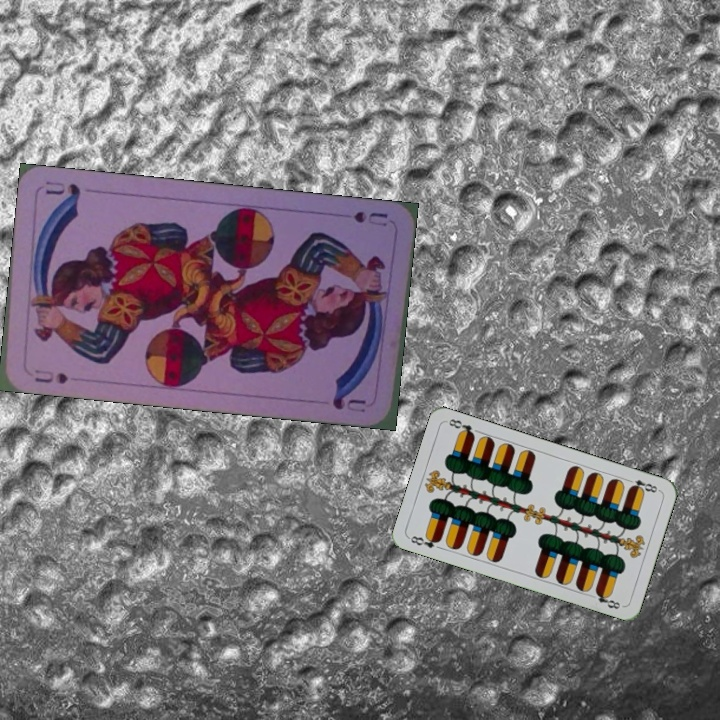E8: (623, 475, 662, 495), (407, 531, 444, 551)
SU: (349, 207, 391, 229), (30, 368, 71, 387)
